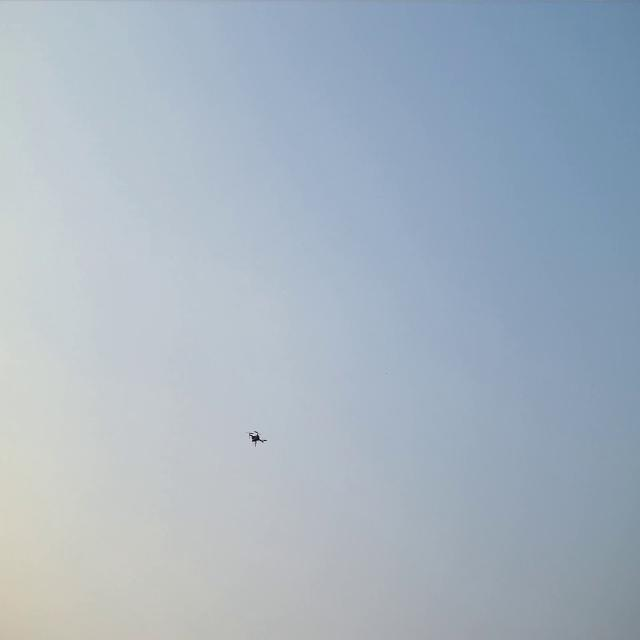UAV: (244, 428, 269, 448)
